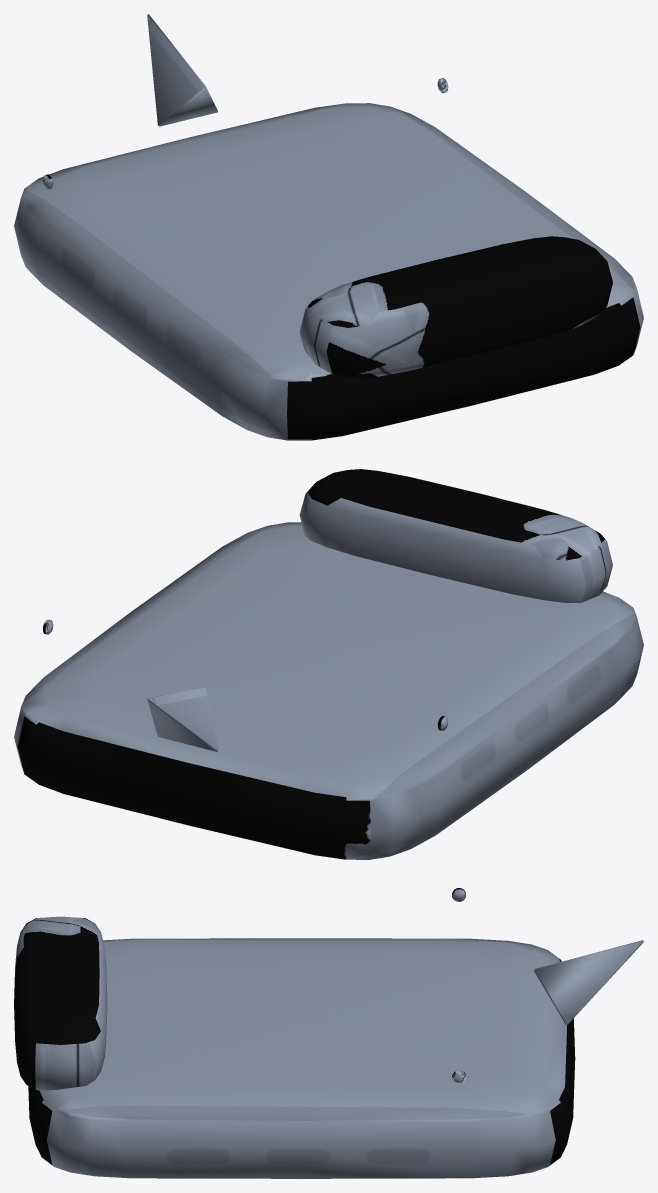
The model's file is Estela_BotaDer_Acero.fbx.
3 views of the same model, one above another, from view 1: azimuth 30°, elevation 25°; view 2: azimuth 150°, elevation 25°; view 3: azimuth 270°, elevation 25° (orthographic). The views are drawn at different scales.
Visible parts, largest first — view 1: Estela_BotaDer_Acero; view 2: Estela_BotaDer_Acero; view 3: Estela_BotaDer_Acero.
Part boxes in pixels (x1=…): Estela_BotaDer_Acero: x1=14, y1=14, x2=643, y2=440; Estela_BotaDer_Acero: x1=14, y1=469, x2=643, y2=859; Estela_BotaDer_Acero: x1=14, y1=888, x2=643, y2=1178.
Size of the model in its own units: 1.19 by 0.4625 by 1.68.
